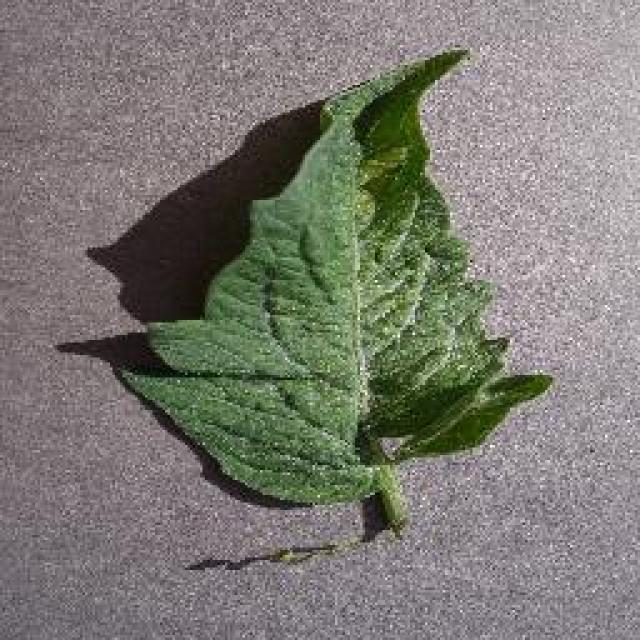Tomato___Spider_mites Two-spotted_spider_mite: (120, 48, 550, 568)
